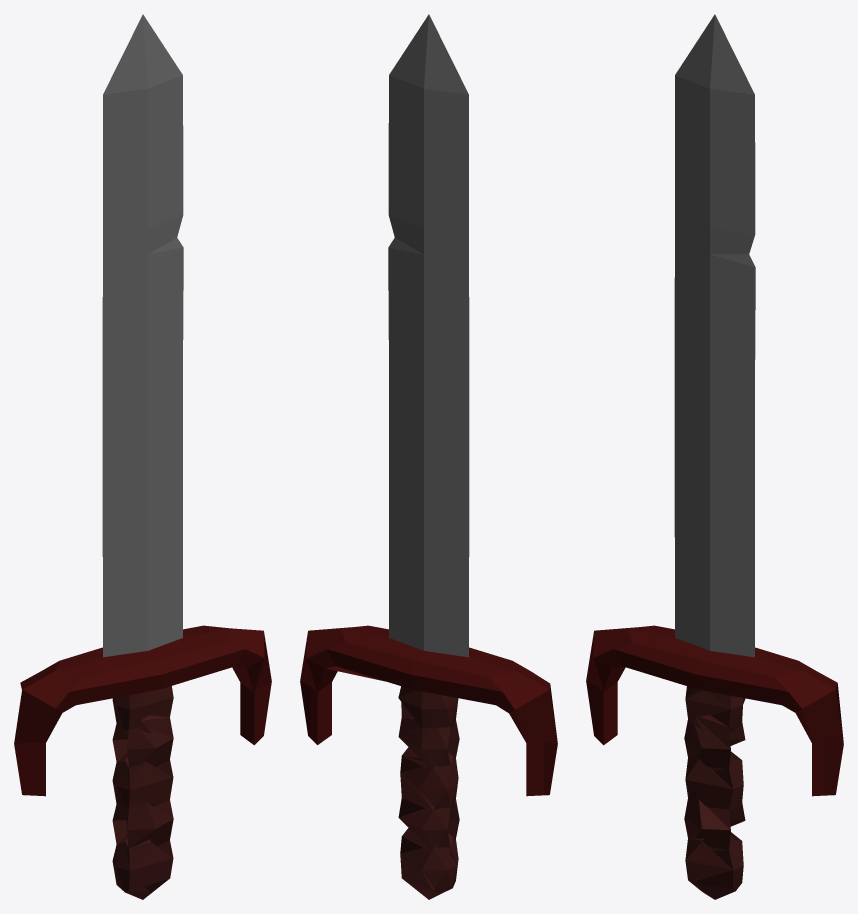
File: kilic.fbx
3 views of the same model, side by side, from view 1: azimuth 30°, elevation 25°; view 2: azimuth 150°, elevation 25°; view 3: azimuth 330°, elevation 25° (orthographic).
Parts seen in each view (by area): view 1: excalibur; view 2: excalibur; view 3: excalibur.
Part boxes in pixels (x1,y1,x2,y2): excalibur: (14,14,271,899); excalibur: (300,14,557,899); excalibur: (586,14,843,899).
Size of the model in its own units: 643 by 2110 by 168.
